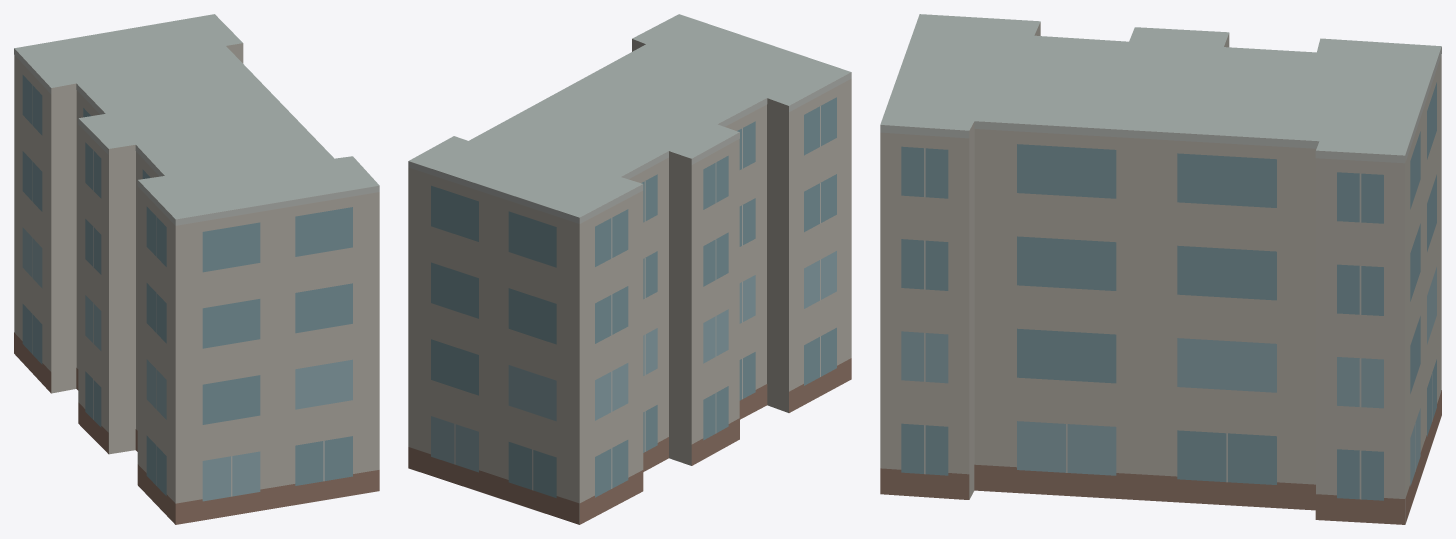
Rendered from survey-upis-32626486.glb.
3 renders of one model, left to right at view 1: azimuth 30°, elevation 25°; view 2: azimuth 150°, elevation 25°; view 3: azimuth 270°, elevation 25°, orthographic. The views are drawn at different scales.
Visible parts, largest first — view 1: survey-upis-32626486.tmp; view 2: survey-upis-32626486.tmp; view 3: survey-upis-32626486.tmp.
Part boxes in pixels (box(x1,y1,x2,y2)): survey-upis-32626486.tmp: box(14, 14, 379, 524); survey-upis-32626486.tmp: box(408, 14, 851, 524); survey-upis-32626486.tmp: box(880, 14, 1441, 524).
Size of the model in its own units: 9.63 by 11.7 by 16.13.
